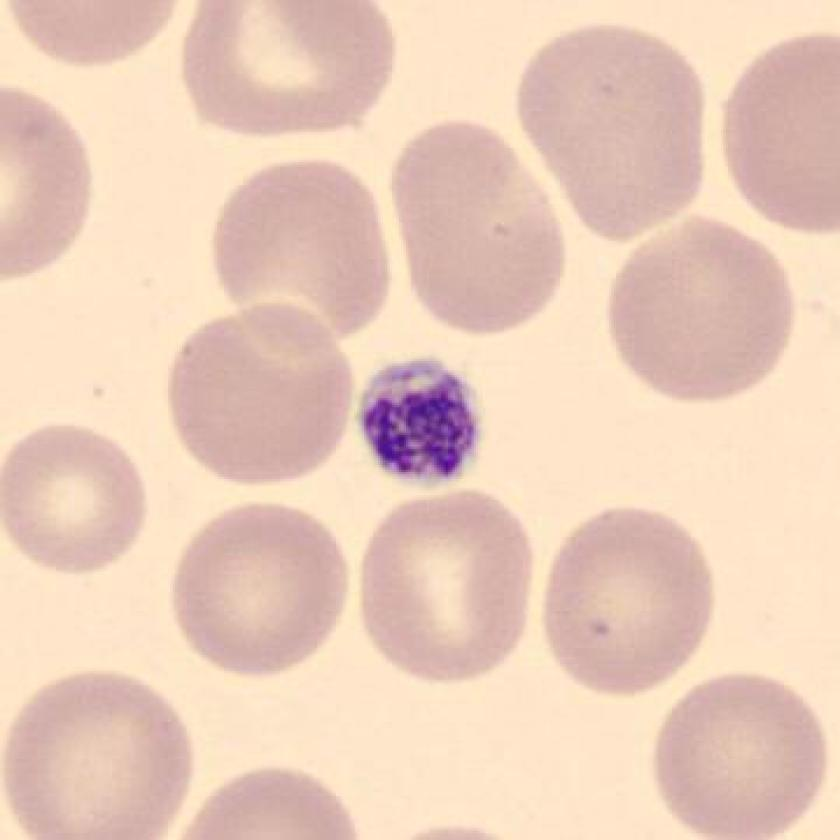platelets: (342, 344, 498, 499)
